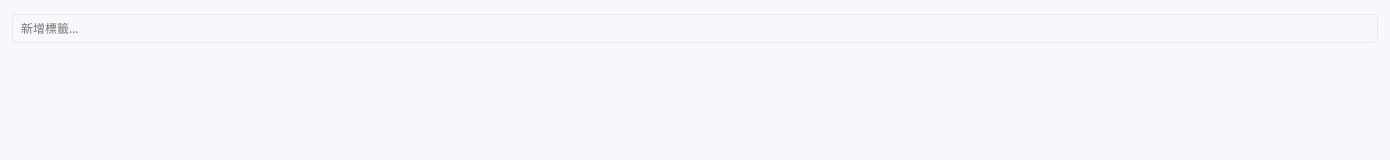
TagSelector management actions › shows rename and delete actions in the dropdown
Note: Open the dropdown by focusing the input
Focus the field with placeholder "新增標籤…" at coordinates (695, 29), box [12,14,1378,43]
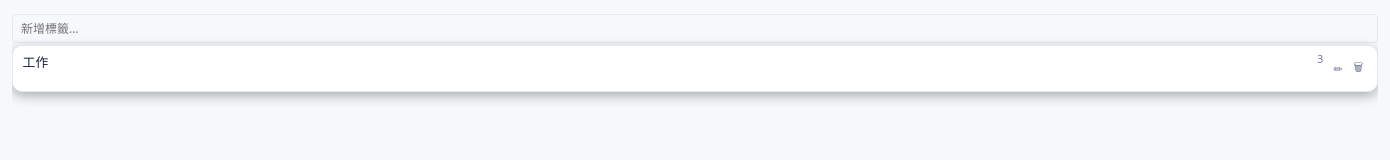
Now the button "工作 3" is shown, box [23,52,1323,84]
Now the button titled "重新命名" is shown, box [1330,52,1347,84]
Now the button titled "刪除標籤" is shown, box [1349,52,1367,84]
